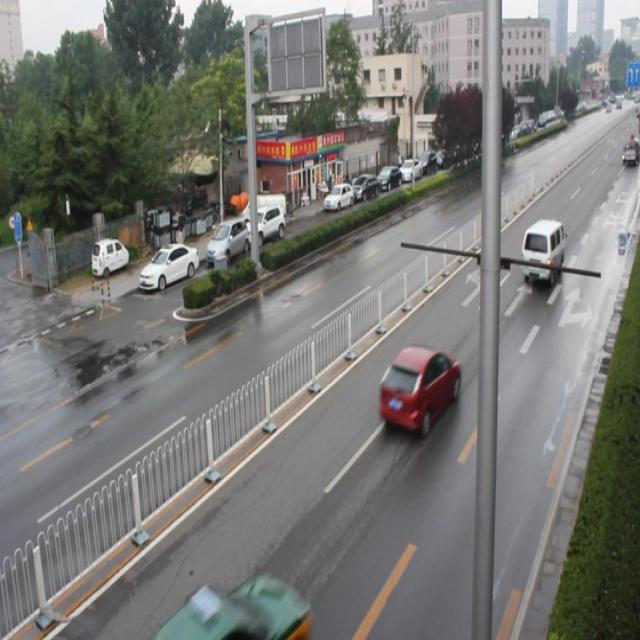car: (378, 344, 460, 441)
truck: (520, 214, 564, 284)
